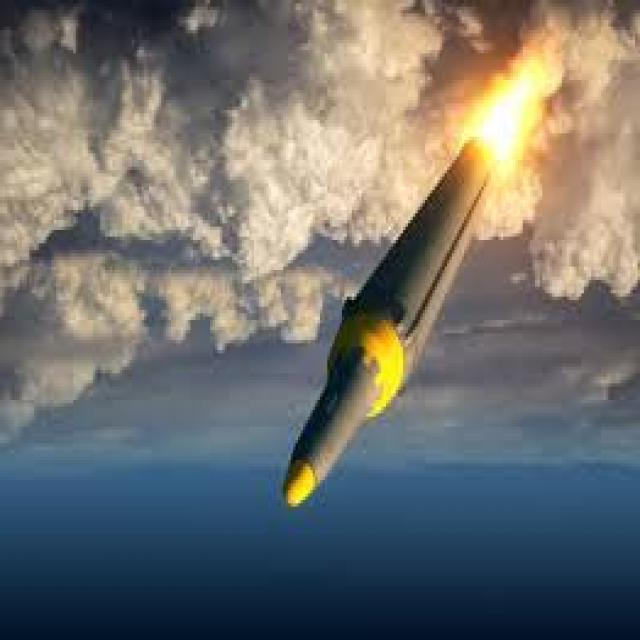missile: (276, 120, 505, 522)
